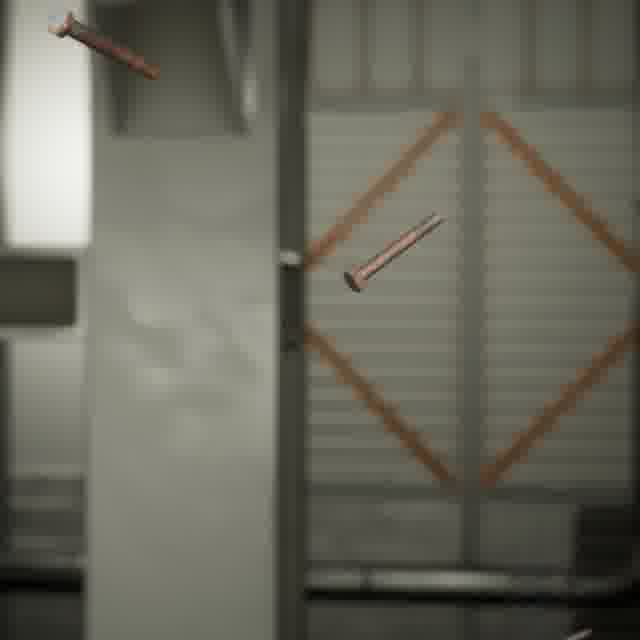bolt: (42, 3, 164, 83), (338, 207, 447, 296)
